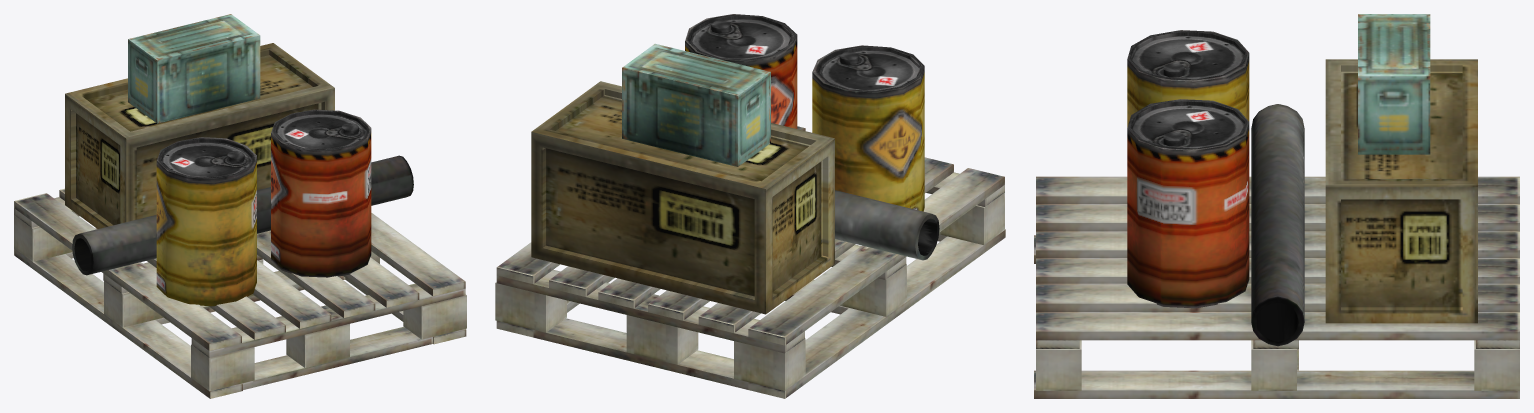
File: pallette.obj
3 renders of one model, left to right at view 1: azimuth 30°, elevation 25°; view 2: azimuth 150°, elevation 25°; view 3: azimuth 270°, elevation 25°, orthographic. The views are drawn at different scales.
Parts seen in each view (by area): view 1: Group; view 2: Group; view 3: Group.
Boxes of the visible parts, x1,y1,x2,y2 form: Group: (14, 14, 466, 398); Group: (495, 14, 1005, 398); Group: (1034, 14, 1519, 398).
Bounding box in the file's own units: 47 × 31.38 × 49.86.
1 material, 1 textured.
